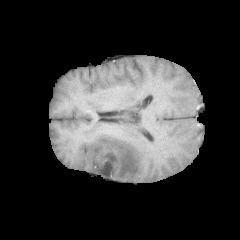glioma: (83, 135, 143, 179)
